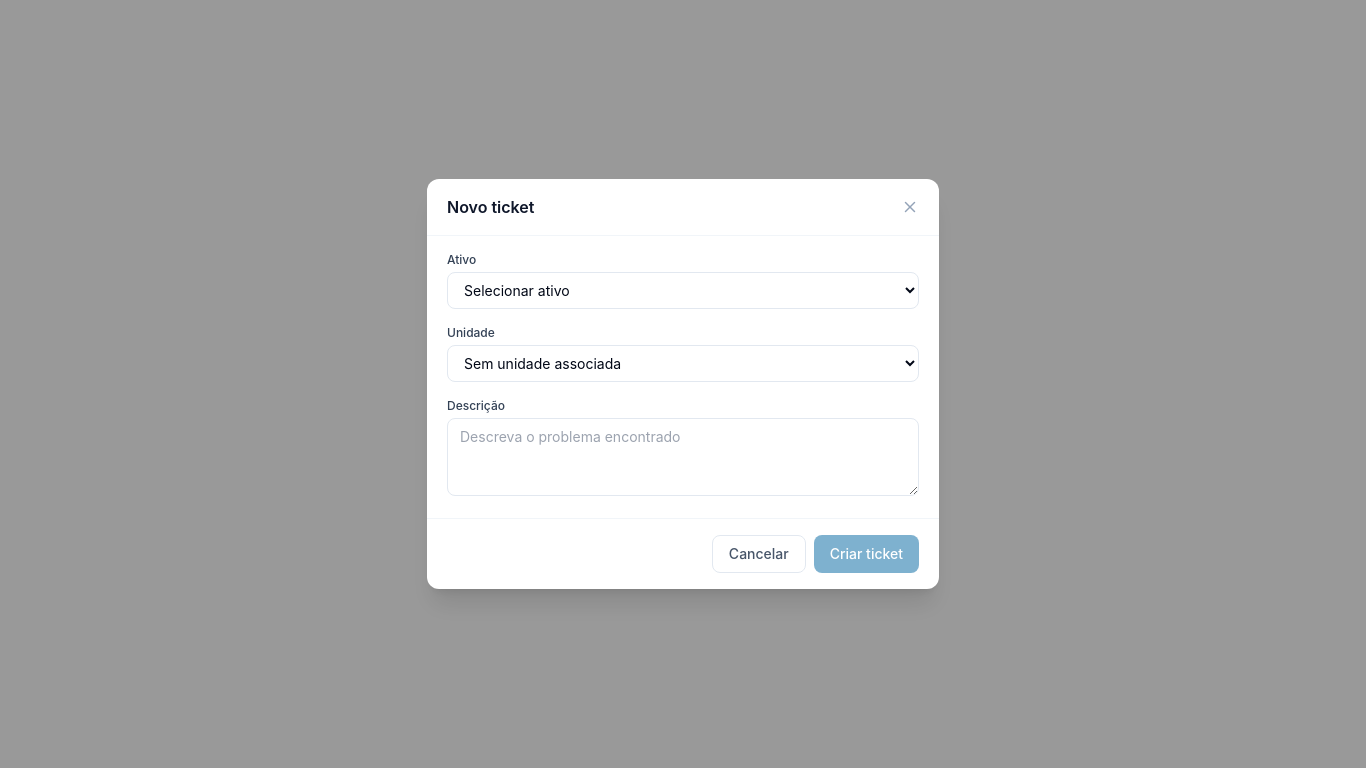
Test: MaintenanceTicketFormModal › shows a global error when the create request fails
The width and height of the screenshot is (1366, 768).
Select "PAT-001 — Ultrassom Sala 1" in the dropdown labelled "Ativo" at (683, 290), box [447,272,919,309]
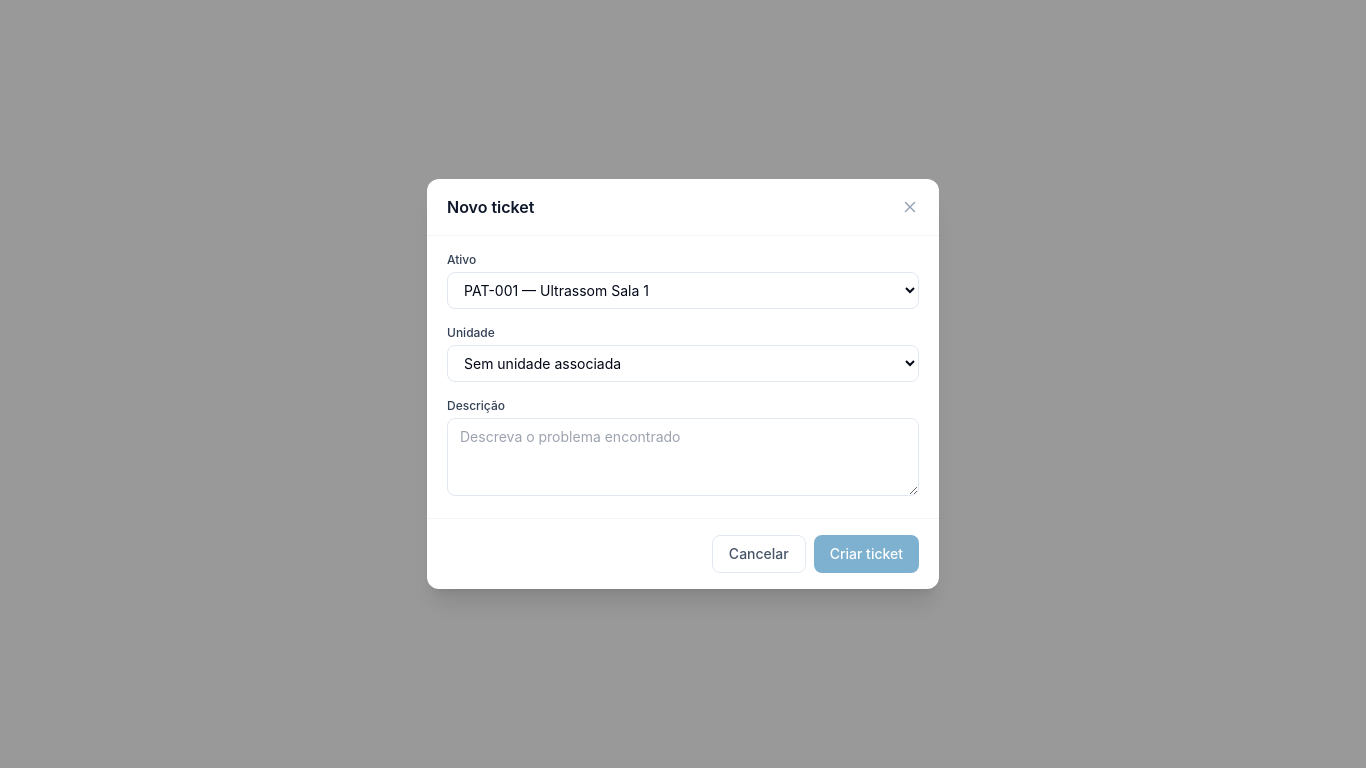
Type "Tela quebrada" into the text box labelled "Descrição".
click(683, 457); type("Tela quebrada")  # box [447,418,919,496]
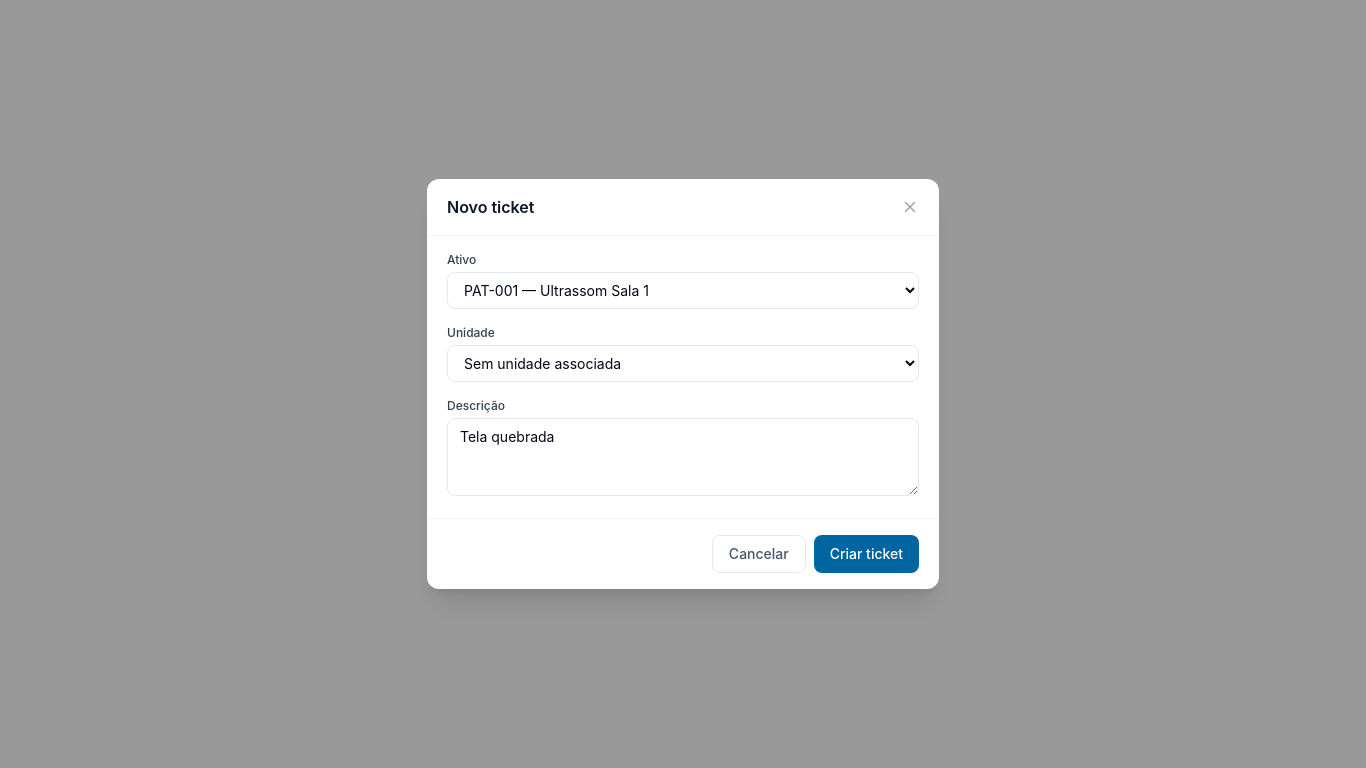
Click the button "Criar ticket".
click(866, 554)  # box [814,535,919,573]
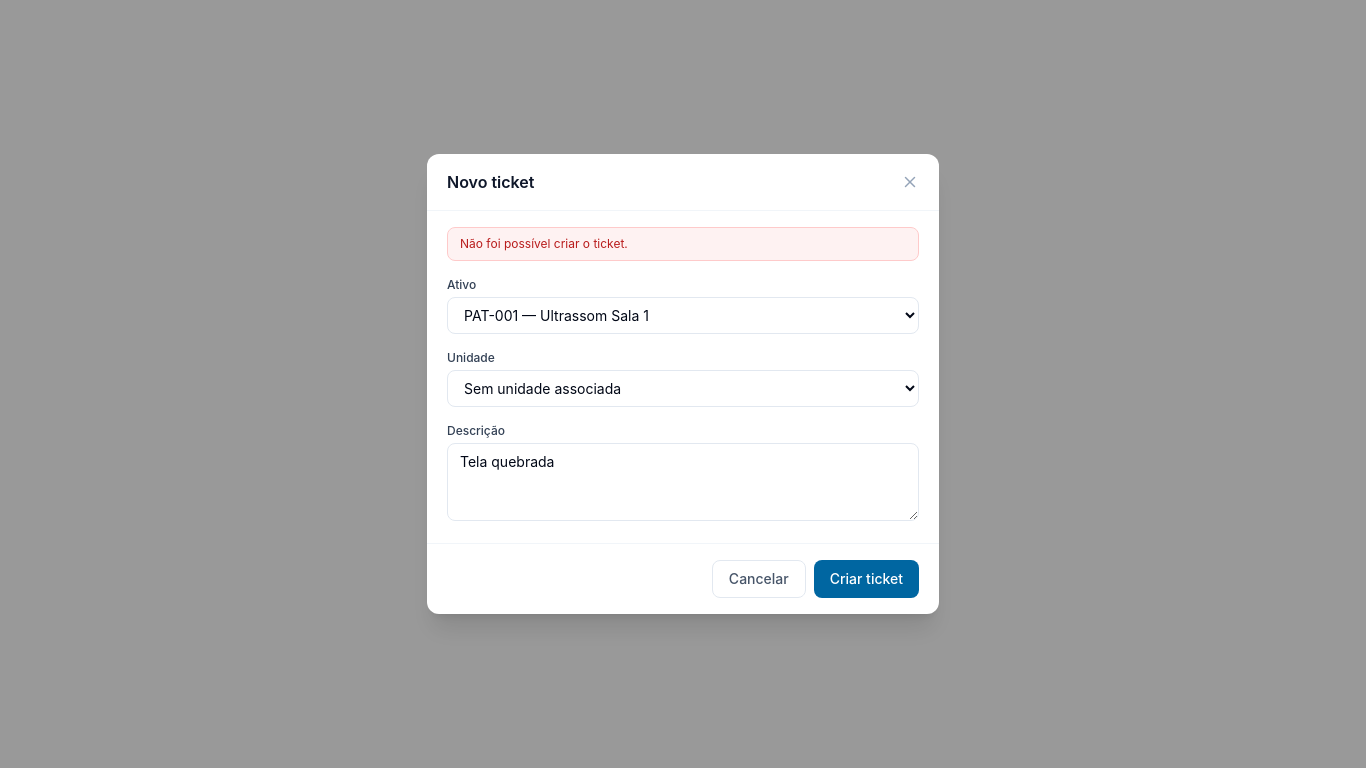
Check: the text "Não foi possível criar o ticket." is shown, box [447,227,919,261]
